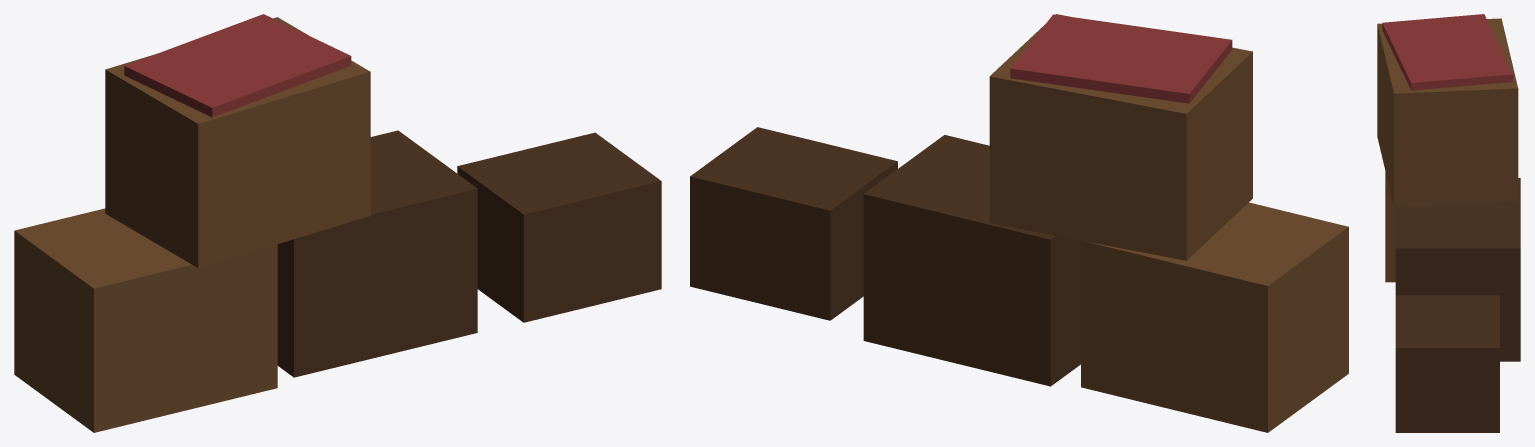
File: a3k_crates.glb
3 views of the same model, side by side, from view 1: azimuth 30°, elevation 25°; view 2: azimuth 150°, elevation 25°; view 3: azimuth 270°, elevation 25° (orthographic). The views are drawn at different scales.
Visible parts, largest first — view 1: a3k_crates; view 2: a3k_crates; view 3: a3k_crates.
Boxes of the visible parts, bbox=[...] form: a3k_crates: bbox=[14, 14, 661, 432]; a3k_crates: bbox=[690, 14, 1348, 432]; a3k_crates: bbox=[1377, 14, 1520, 432].
Size of the model in its own units: 2.5 by 1.25 by 0.6884.
